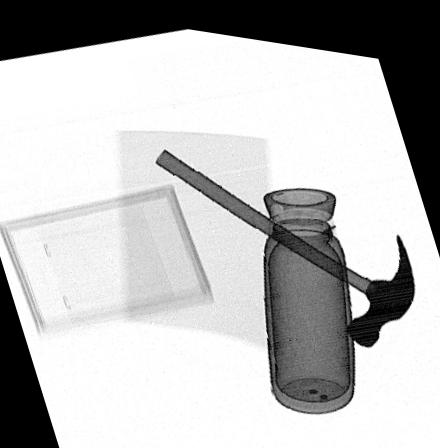Hammer: (153, 142, 415, 336)
